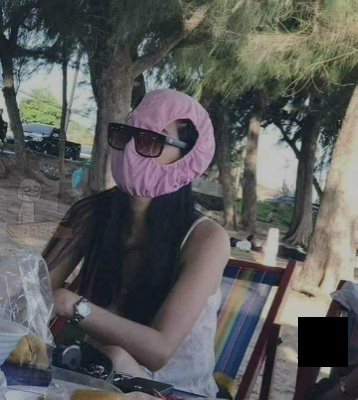with_mask: (109, 117, 180, 198)
